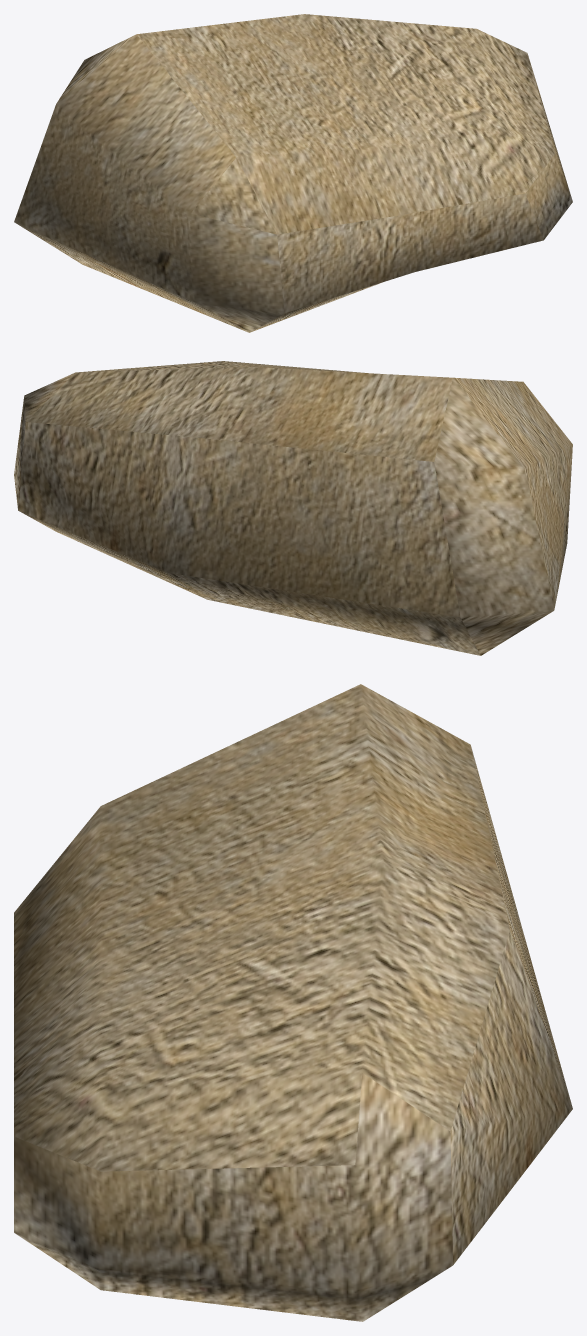
The model's file is geo_Rock.fbx.
The picture shows the model from 3 angles, top to bottom: view 1: azimuth 30°, elevation 25°; view 2: azimuth 150°, elevation 25°; view 3: azimuth 270°, elevation 25°; orthographic projection. The views are drawn at different scales.
Visible parts, largest first — view 1: geo_Rock; view 2: geo_Rock; view 3: geo_Rock.
Boxes of the visible parts, x1=… form: geo_Rock: x1=14, y1=14, x2=572, y2=332; geo_Rock: x1=14, y1=361, x2=572, y2=655; geo_Rock: x1=14, y1=684, x2=572, y2=1321.
Size of the model in its own units: 50.32 by 23.44 by 30.28.
Materials: 1 (1 with a texture image).
